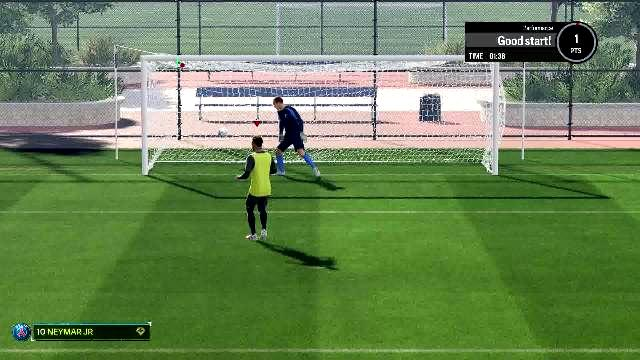bottom-left: (148, 118, 260, 174)
bottom-right: (375, 118, 481, 174)
center-down: (258, 122, 374, 178)
football: (216, 127, 232, 139)
goalkeeper: (268, 94, 318, 176), (270, 96, 310, 178)
player: (232, 137, 276, 247)
top-left: (146, 62, 262, 118)
top-right: (378, 61, 494, 117)
